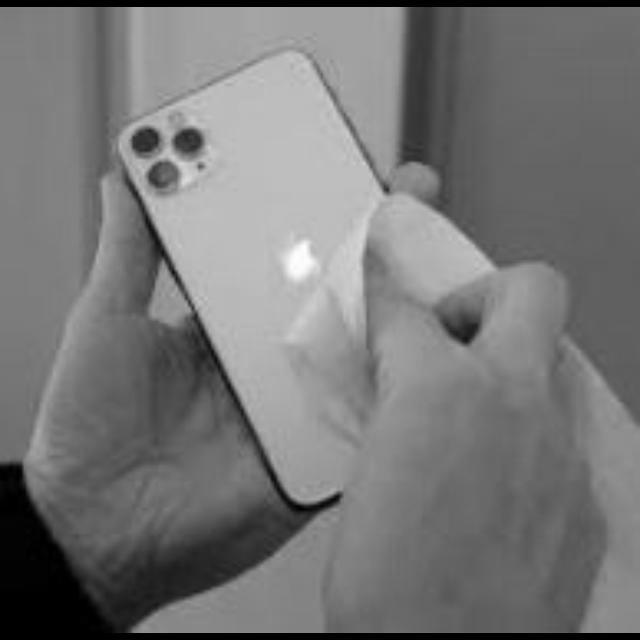fake: (66, 54, 534, 536)
